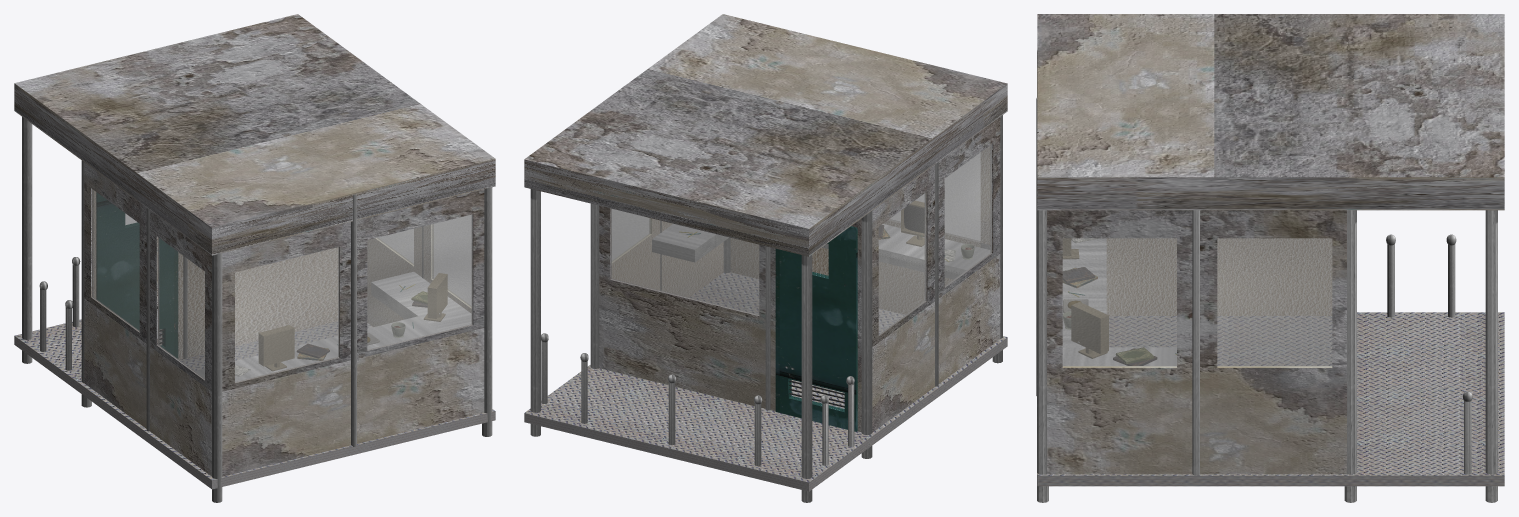
The model's file is Puesto de Control.fbx.
3 renders of one model, left to right at view 1: azimuth 30°, elevation 25°; view 2: azimuth 150°, elevation 25°; view 3: azimuth 270°, elevation 25°, orthographic. The views are drawn at different scales.
Parts seen in each view (by area): view 1: pasted__pCube1 (×2), pasted__pasted__pCube1 (×2), pasted__pasted__pasted__pCube1, pasted__pasted__pCube8 (×2), pasted__pasted__pasted__pCube8, pasted__pCube8 (×2), pCube2, pasted__pasted__pasted__pasted__pCube1, pasted__pCylinder1 (×2), pasted__pasted__pCylinder1, pasted__pasted__pasted__pasted__pCylinder1 (×2), pasted__pCube6 (+3 smaller); view 2: pasted__pCube1 (×2), pasted__pasted__pCube1 (×2), pasted__pasted__pasted__pCube1, pCube2, pasted__pasted__pasted__pasted__pCube8, pasted__pasted__pasted__pasted__pCube1, pasted__pCube8, pasted__pasted__pCube8, pasted__pCylinder1, pasted__pasted__pasted__pCylinder1, pasted__pasted__pasted__pCube8, pCylinder1 (+4 smaller); view 3: pasted__pCube1 (×2), pasted__pasted__pasted__pasted__pCube1, pasted__pasted__pCube1, pCube8, pasted__pCube8, pasted__pasted__pasted__pCube1, pCylinder1, pasted__pasted__pCylinder1 (×2), pasted__pCylinder1, pasted__pasted__pasted__pCylinder1, pCube6, pasted__pasted__pasted__pasted__pCylinder1 (+1 smaller).
Boxes of the visible parts, x1=… form: pasted__pCube1 (×2): x1=14, y1=14, x2=495, y2=476; pasted__pasted__pCube1 (×2): x1=14, y1=191, x2=495, y2=489; pasted__pasted__pasted__pCube1: x1=84, y1=162, x2=211, y2=476; pasted__pasted__pCube8 (×2): x1=158, y1=214, x2=472, y2=379; pasted__pasted__pasted__pCube8: x1=235, y1=247, x2=338, y2=382; pasted__pCube8 (×2): x1=92, y1=189, x2=471, y2=331; pCube2: x1=96, y1=192, x2=177, y2=358; pasted__pasted__pasted__pasted__pCube1: x1=367, y1=224, x2=471, y2=331; pasted__pCylinder1 (×2): x1=22, y1=117, x2=492, y2=436; pasted__pasted__pCylinder1: x1=212, y1=253, x2=222, y2=502; pasted__pasted__pasted__pasted__pCylinder1 (×2): x1=146, y1=194, x2=356, y2=446; pasted__pCube6: x1=259, y1=325, x2=294, y2=366; pasted__pCube1 (×2): x1=524, y1=14, x2=1007, y2=314; pasted__pasted__pCube1 (×2): x1=524, y1=205, x2=1007, y2=491; pasted__pasted__pasted__pCube1: x1=872, y1=117, x2=1000, y2=432; pCube2: x1=775, y1=226, x2=857, y2=431; pasted__pasted__pasted__pasted__pCube8: x1=611, y1=208, x2=759, y2=314; pasted__pasted__pasted__pasted__pCube1: x1=612, y1=218, x2=728, y2=297; pasted__pCube8: x1=878, y1=192, x2=926, y2=334; pasted__pasted__pCube8: x1=944, y1=144, x2=991, y2=286; pasted__pCylinder1: x1=801, y1=255, x2=812, y2=502; pasted__pasted__pasted__pCylinder1: x1=861, y1=211, x2=872, y2=458; pasted__pasted__pasted__pCube8: x1=889, y1=153, x2=980, y2=241; pCylinder1: x1=530, y1=189, x2=540, y2=436; pasted__pCube1 (×2): x1=1037, y1=14, x2=1504, y2=347; pasted__pasted__pasted__pasted__pCube1: x1=1047, y1=210, x2=1346, y2=474; pasted__pasted__pCube1: x1=1037, y1=312, x2=1504, y2=486; pCube8: x1=1217, y1=238, x2=1332, y2=366; pasted__pCube8: x1=1062, y1=238, x2=1176, y2=366; pasted__pasted__pasted__pCube1: x1=1107, y1=238, x2=1331, y2=315; pCylinder1: x1=1485, y1=210, x2=1497, y2=502; pasted__pasted__pCylinder1 (×2): x1=1344, y1=210, x2=1471, y2=502; pasted__pCylinder1: x1=1037, y1=206, x2=1048, y2=502; pasted__pasted__pasted__pCylinder1: x1=1192, y1=210, x2=1199, y2=475; pCube6: x1=1071, y1=302, x2=1108, y2=353; pasted__pasted__pasted__pasted__pCylinder1: x1=1448, y1=244, x2=1455, y2=317.
Size of the model in its own units: 24.91 by 23.2 by 30.16.
28 materials, 16 textured.
